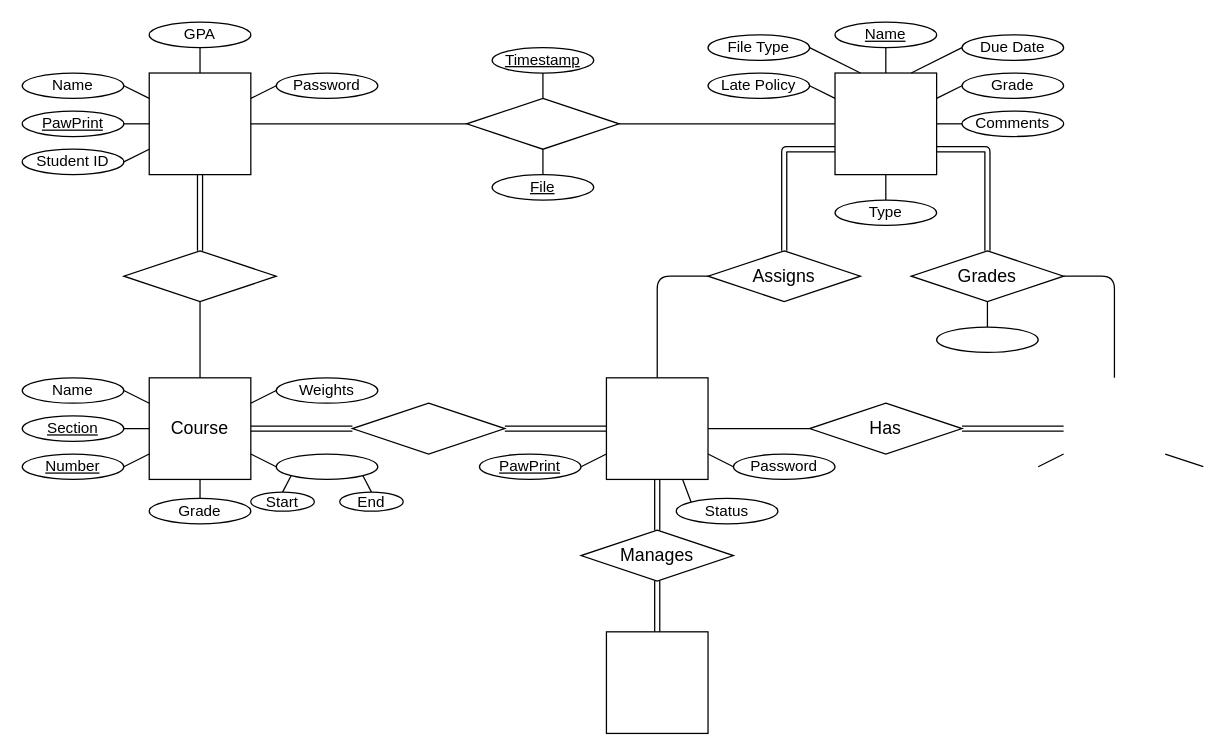
Image size: 1227x756. Some labels were removed from this diagram. The shapes that lost their labels are listed below. From the top down, each one's centre as x and y in pixels, then its label:
At point (199, 123): "Student".
At point (542, 123): "Submits".
At point (885, 123): "Assignment".
At point (199, 276): "Enrolls".
At point (986, 339): "Feedback".
At point (428, 428): "Teaches".
At point (656, 428): "Instructor".
At point (326, 466): "Duration".
At point (656, 682): "System Admin".
